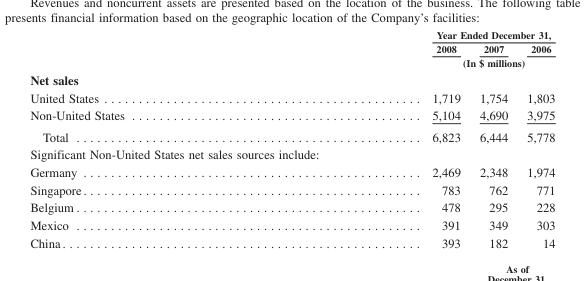table: (29, 28, 554, 249)
table column: (29, 28, 277, 249), (277, 28, 469, 249), (469, 28, 516, 249), (516, 28, 554, 249)
table column header: (29, 28, 554, 70)
table projected row header: (29, 70, 554, 88), (29, 145, 554, 162)
table row: (29, 125, 554, 145), (29, 106, 554, 125), (29, 70, 554, 88), (29, 88, 554, 106), (29, 162, 554, 180), (29, 180, 554, 198), (29, 215, 554, 233), (29, 145, 554, 162), (29, 198, 554, 215), (29, 233, 554, 249), (29, 55, 554, 70), (29, 41, 554, 55), (29, 28, 554, 41)
table spanning cell: (277, 55, 554, 70), (277, 28, 554, 41)
